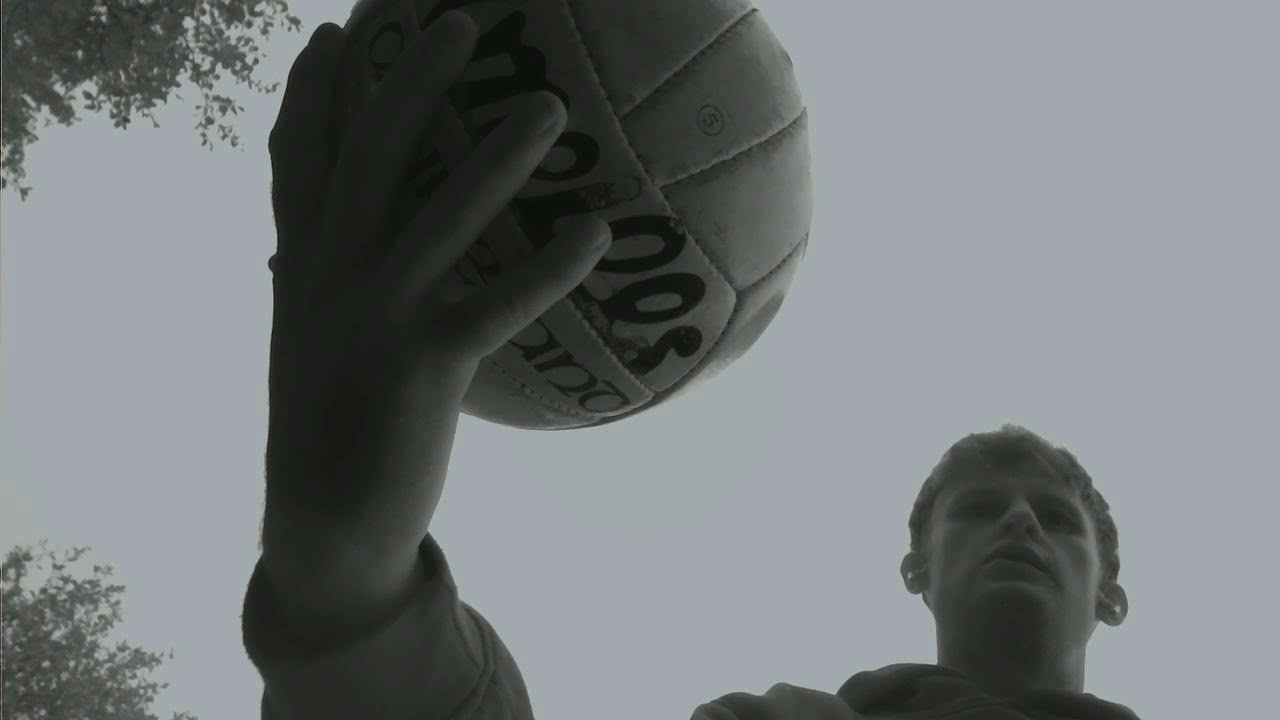Football-Spotter: (345, 0, 812, 429)
